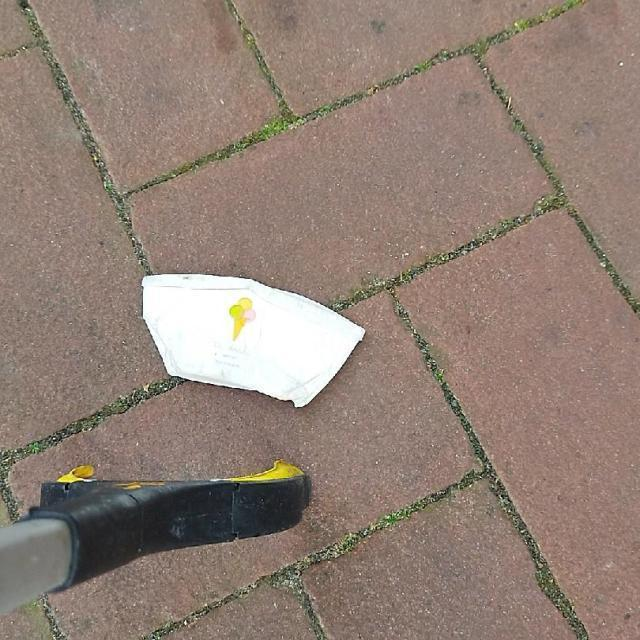Paper: (140, 271, 369, 410)
